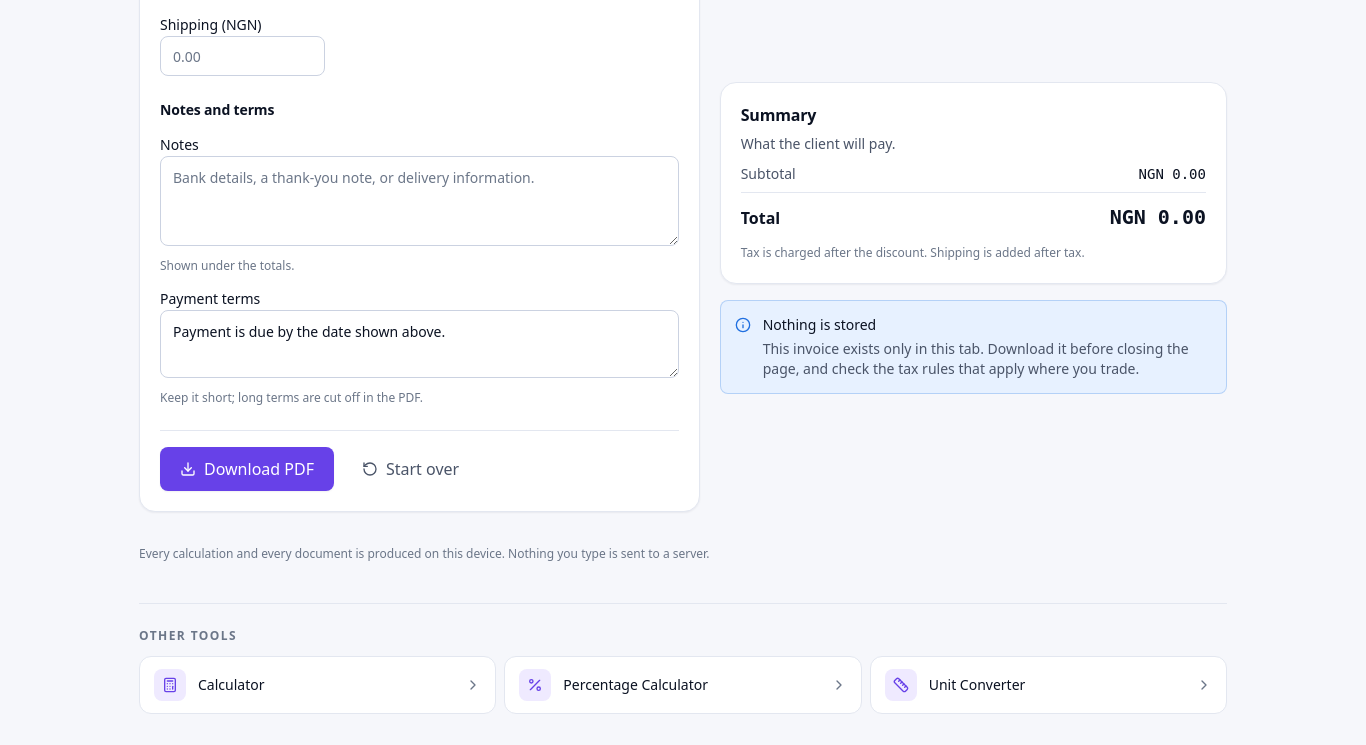
Test: DocumentMaker (invoice) › blocks the download until the required fields are complete
This screenshot has width=1366, height=745.
(page scrolled)
Click the button "Download PDF": (247, 469) [160,447,334,491]
(page scrolled)
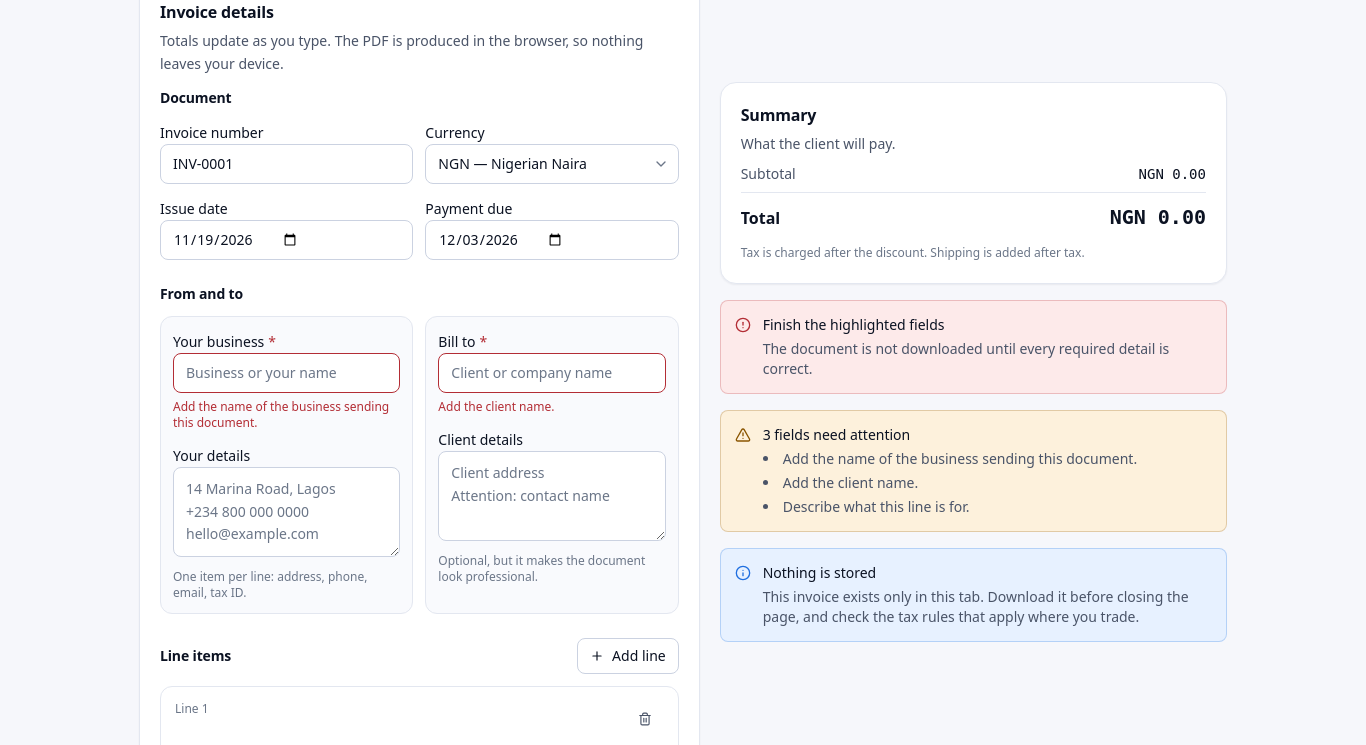
Check: the text "Finish the highlighted fields" is shown, box [763,314,945,333]
Check: the text "Add the name of the business sending this document." is shown, box [173,399,400,431]
